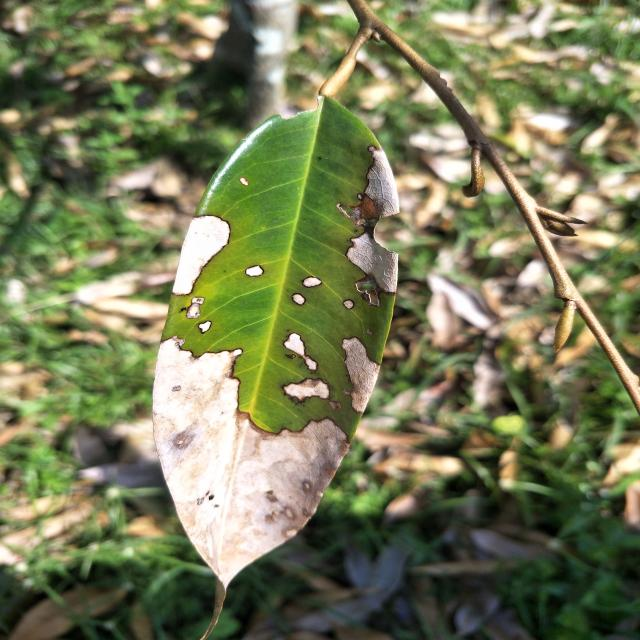Leaf Blight: (122, 329, 382, 640), (346, 140, 435, 310), (170, 196, 228, 310), (344, 329, 387, 406), (273, 369, 337, 404), (278, 324, 320, 372), (189, 319, 229, 341), (282, 287, 313, 308), (297, 270, 325, 289), (242, 262, 264, 282), (333, 292, 357, 306)
